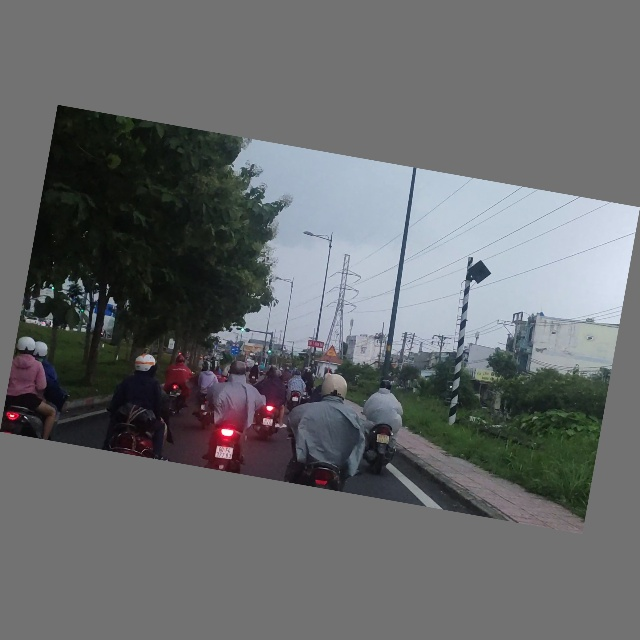W.210: (324, 345, 339, 359)
